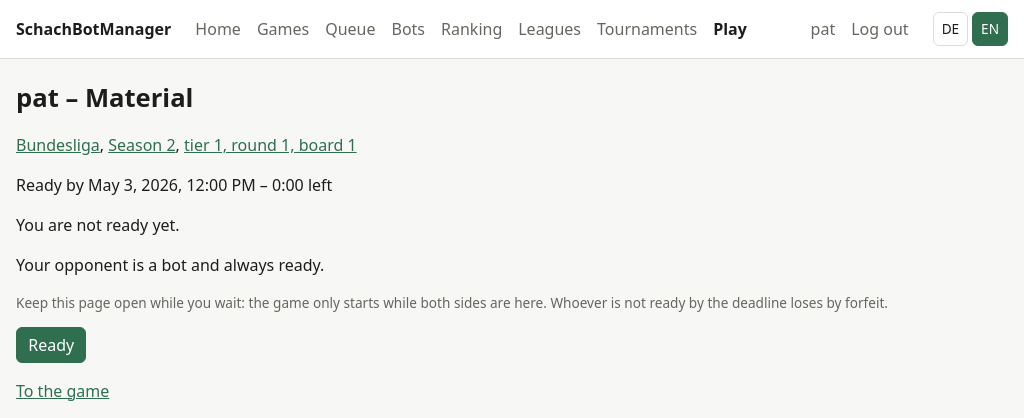
Test: ready for a competition game › says ready, keeps the seat and plays once the game started
Expected: the heading "pat – Material" is shown, x1=16 y1=80 x2=193 y2=115
Expected: the message reads "You are not ready yet.", x1=16 y1=214 x2=180 y2=236
Click the button "Ready" at (51, 345), box x1=16 y1=327 x2=86 y2=363
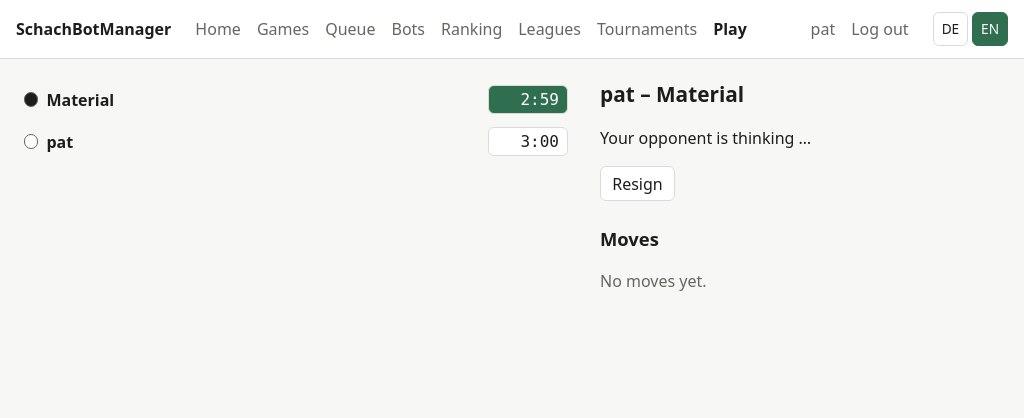
Expected: the text "Your opponent is thinking …" is shown, x1=600 y1=127 x2=811 y2=149
